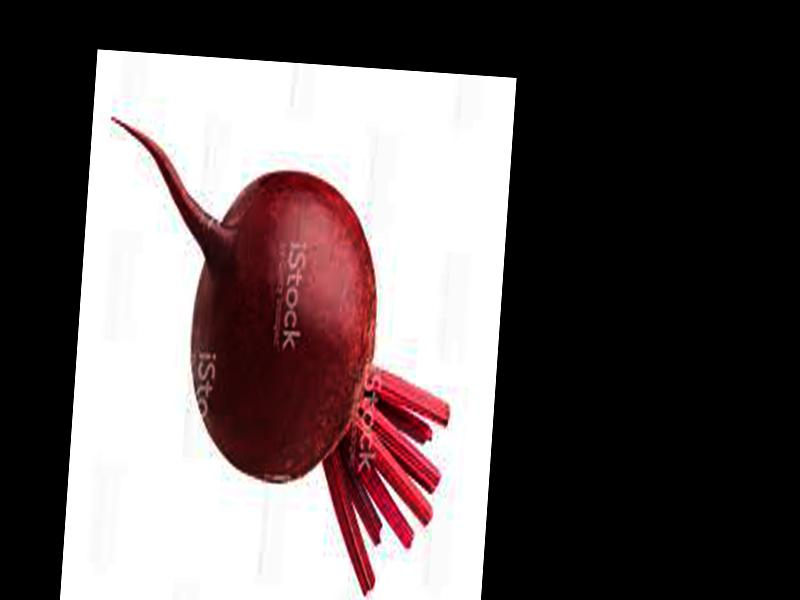Beet: (86, 115, 468, 597)
